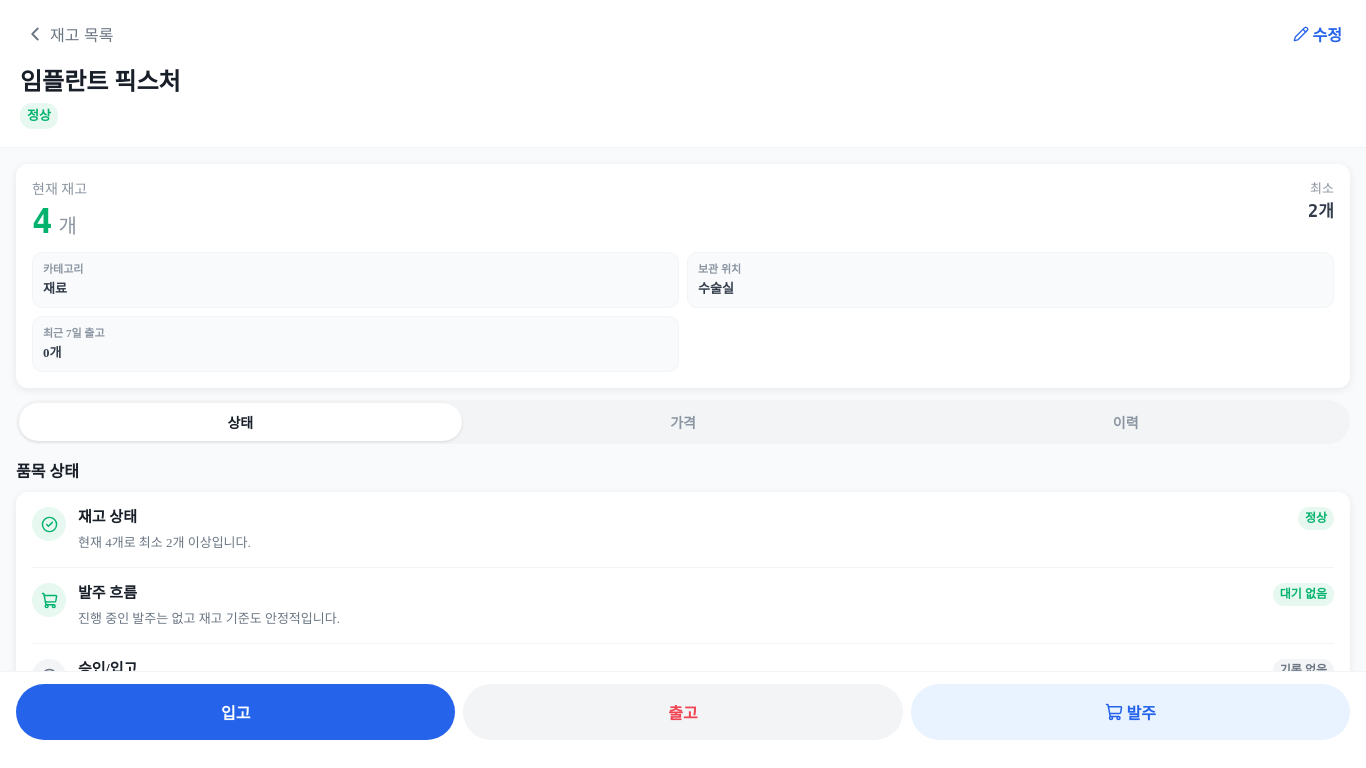
Test: ItemDetailScreen price tab permissions › owner에게 가격 탭과 가격 감시 내용을 노출한다
Click the button "가격". click: (683, 422)
box: top-left (462, 403), bottom-right (904, 441)
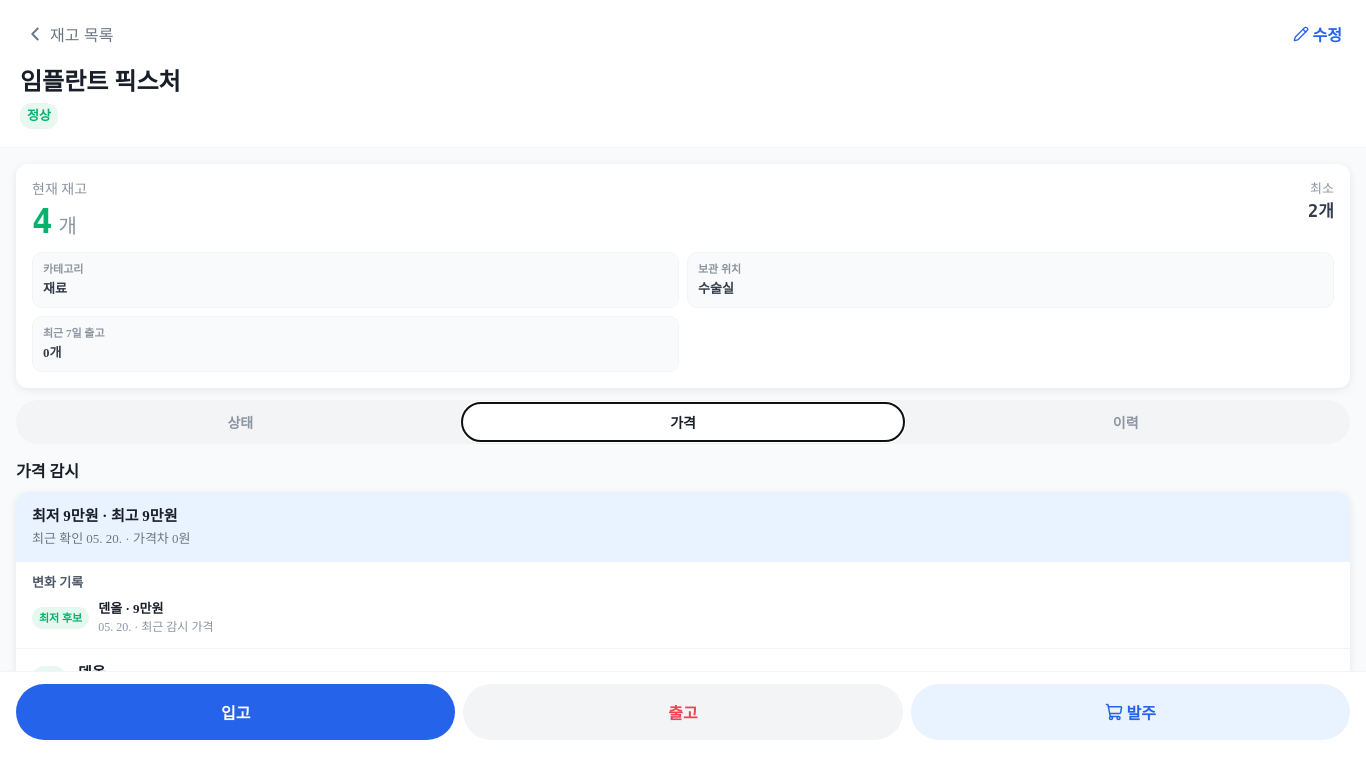
Result: the text "가격 감시" is shown at top-left (16, 463), bottom-right (79, 480)
Result: the text "덴올" is shown at top-left (78, 665), bottom-right (106, 681)
